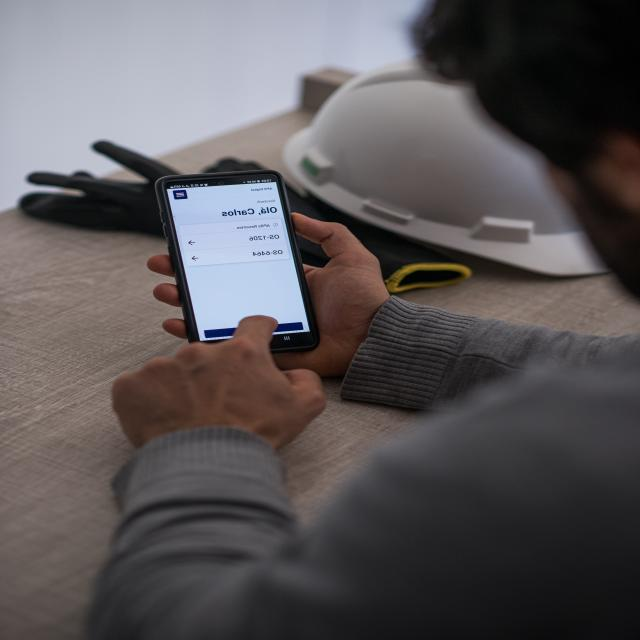capacete: (274, 42, 624, 283)
